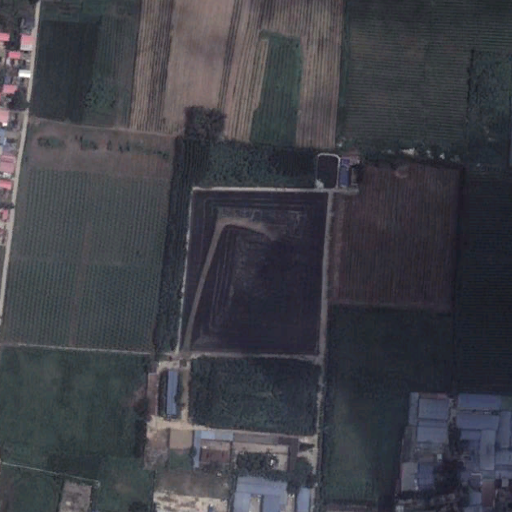lf: (185, 184, 332, 351)
